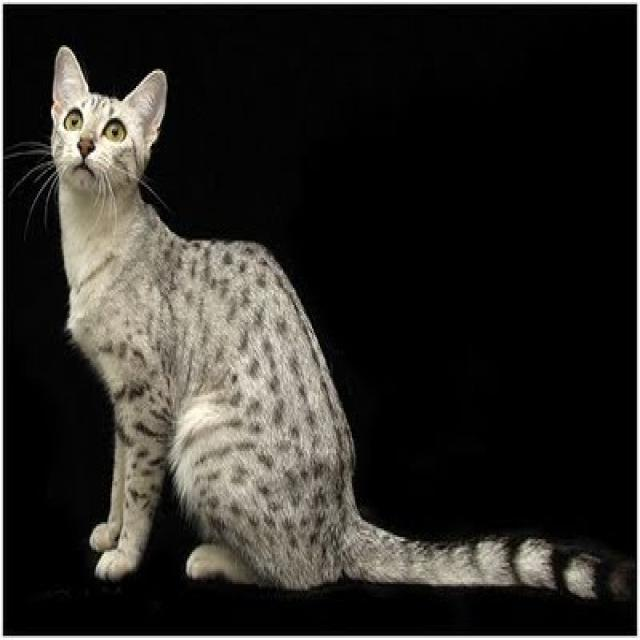Egyptian_Mau: (49, 42, 174, 209)
